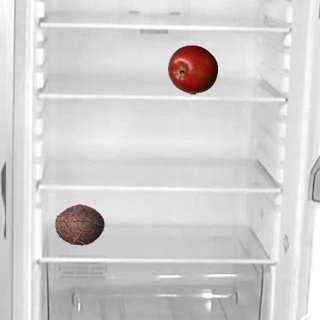Apple Braeburn: (167, 44, 217, 94)
Cocos: (54, 199, 104, 249)
